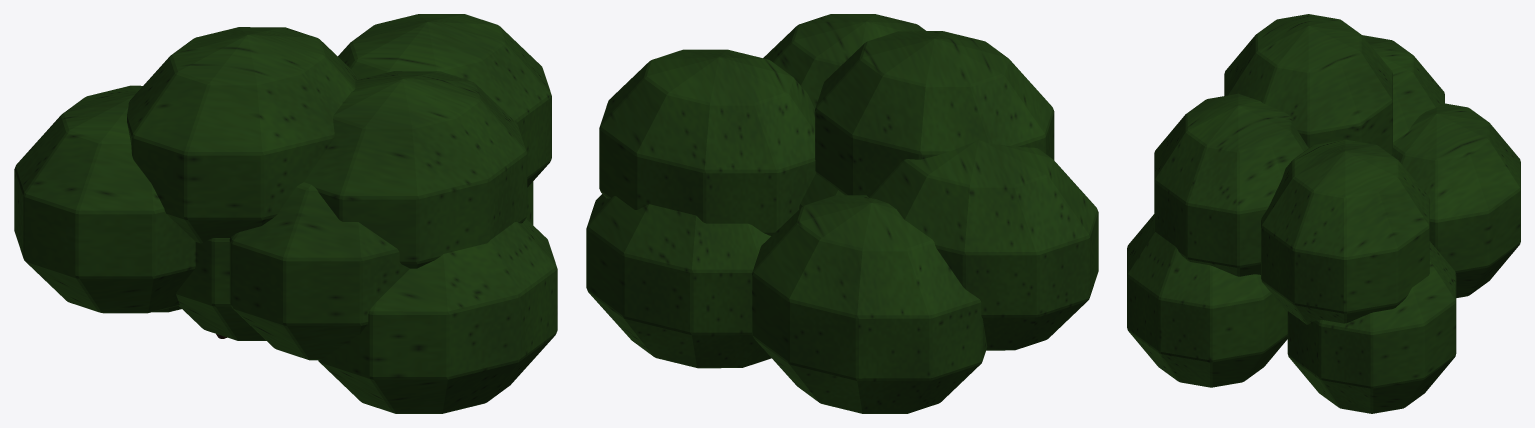
Rendered from PROP-CE1E7C480E20_lod1.glb.
3 renders of one model, left to right at view 1: azimuth 30°, elevation 25°; view 2: azimuth 150°, elevation 25°; view 3: azimuth 270°, elevation 25°, orthographic. The views are drawn at different scales.
Parts seen in each view (by area): view 1: foliage.009; view 2: foliage.009; view 3: foliage.009.
Part boxes in pixels (left/top/right/bottom): foliage.009: left=14, top=14, right=557, bottom=413; foliage.009: left=586, top=14, right=1098, bottom=413; foliage.009: left=1127, top=14, right=1520, bottom=413.
Size of the model in its own units: 1.26 by 0.8487 by 1.01.
Materials: 2 (2 with a texture image).
